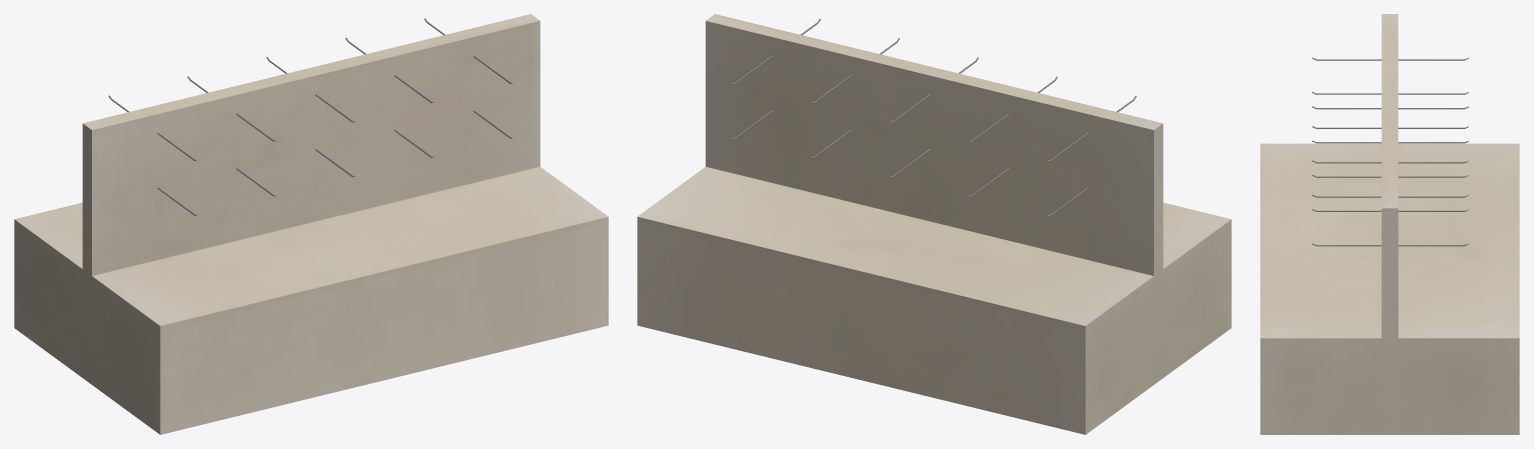
File: white_display_field.fbx
3 views of the same model, side by side, from view 1: azimuth 30°, elevation 25°; view 2: azimuth 150°, elevation 25°; view 3: azimuth 270°, elevation 25° (orthographic). The views are drawn at different scales.
Parts seen in each view (by area): view 1: Cube.052; view 2: Cube.052; view 3: Cube.052.
Boxes of the visible parts, box(x1,y1,x2,y2) form: Cube.052: box(14, 14, 608, 434); Cube.052: box(637, 14, 1231, 434); Cube.052: box(1260, 14, 1519, 434).
Size of the model in its own units: 179 by 97.17 by 101.
1 material, 1 textured.
